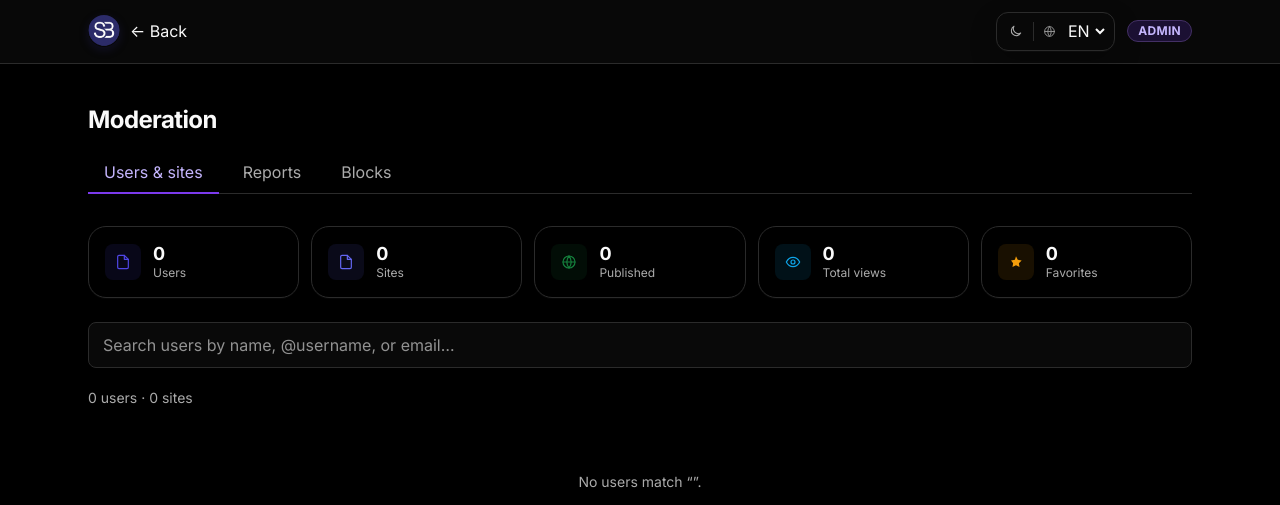
Test: the flagged-blocks queue › says who flagged it, why, and how far the block already travelled
Click the button "Blocks".
click(366, 173)  # box [325, 152, 408, 194]
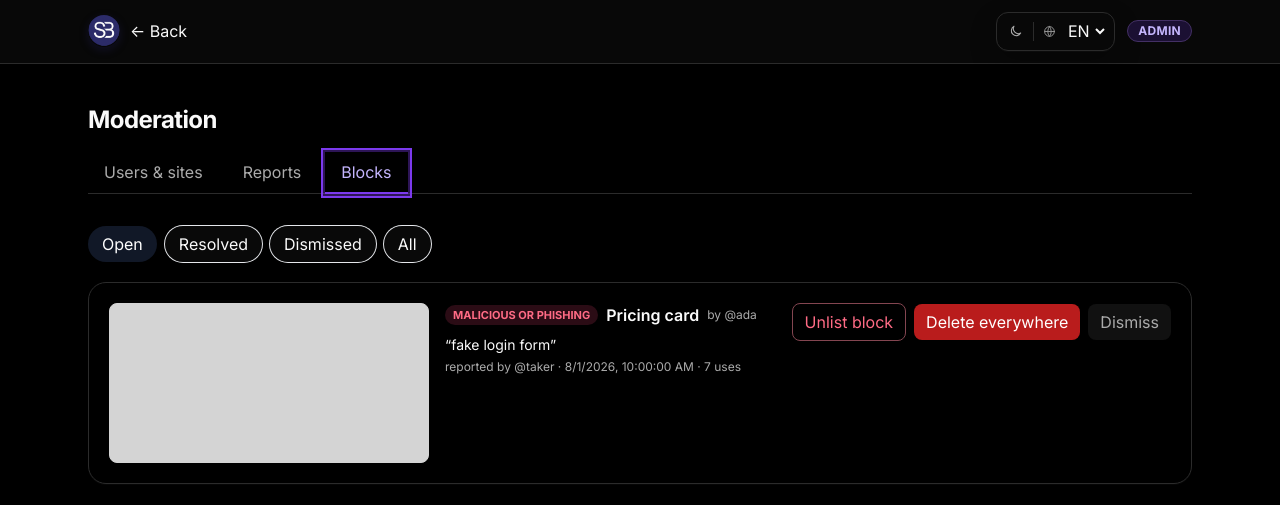
expect the text "Pricing card" is shown: met, box [606, 303, 699, 327]
expect the text "Malicious or phishing" is shown: met, box [445, 304, 598, 325]
expect the text "“fake login form”" is shown: met, box [445, 336, 556, 353]
